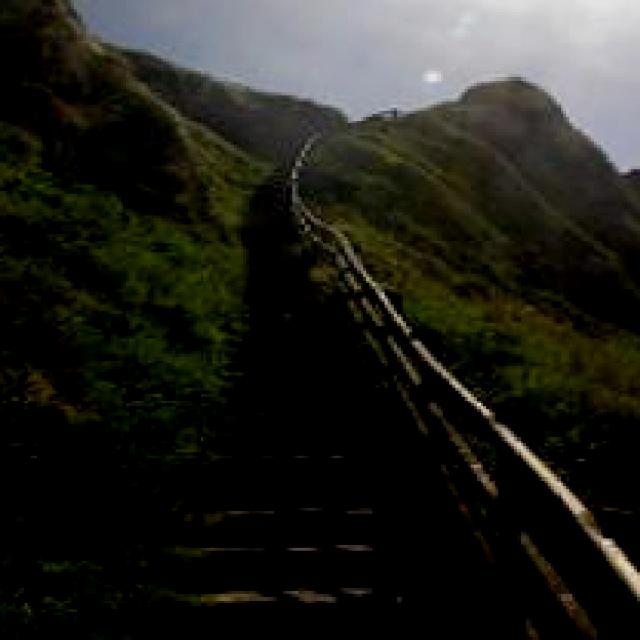upstair: (182, 364, 475, 640)
